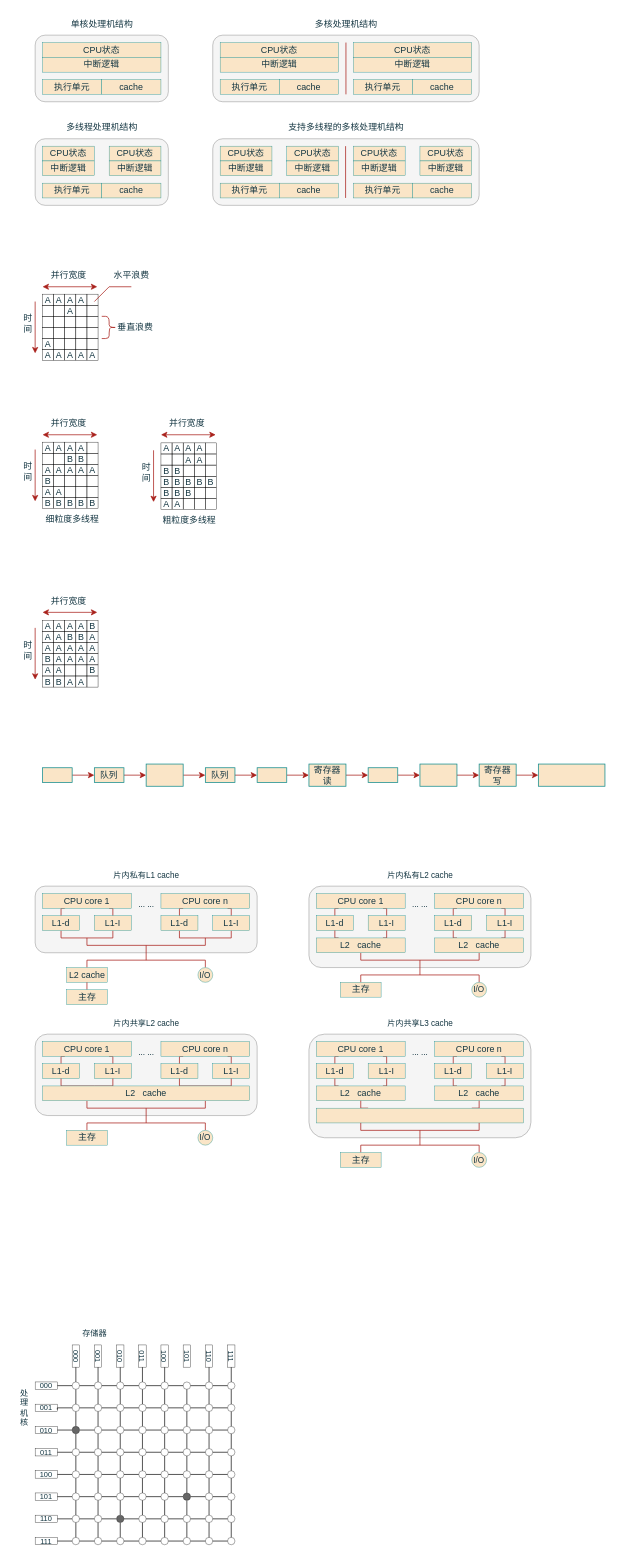
Image size: 618x1558. Some labels were removed from this diagram. The shapes that lost their labels are listed below. From the top down, each one's centre as x and y in pixels, then its label:
At (57,775): "取指".
At (164,774): "寄存器 重命名".
At (271,775): "调度".
At (382,775): "执行".
At (438,774): "L1 cache".
At (571,774): "提交 重排序缓冲区".
At (419,1115): "L3 cache".
